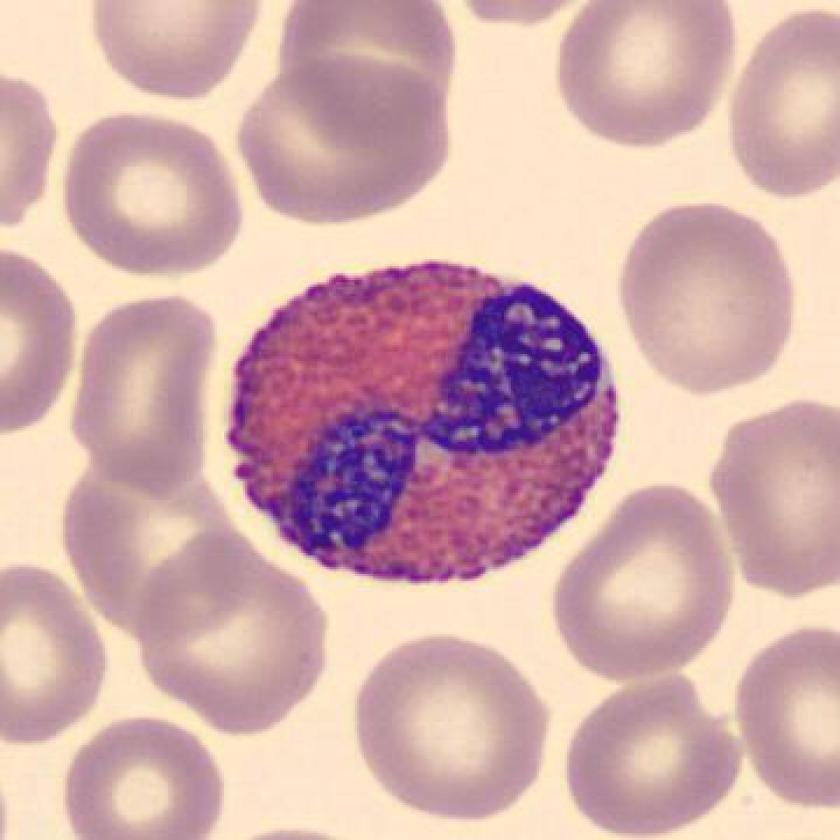eosinophil: (218, 256, 631, 607)
